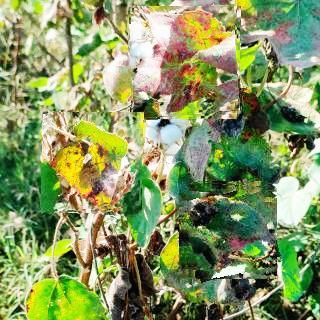blight: (128, 6, 241, 120), (41, 112, 144, 215), (179, 180, 277, 279)
